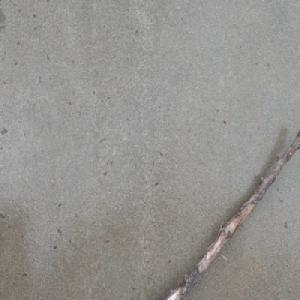Wood: (160, 127, 300, 300)
